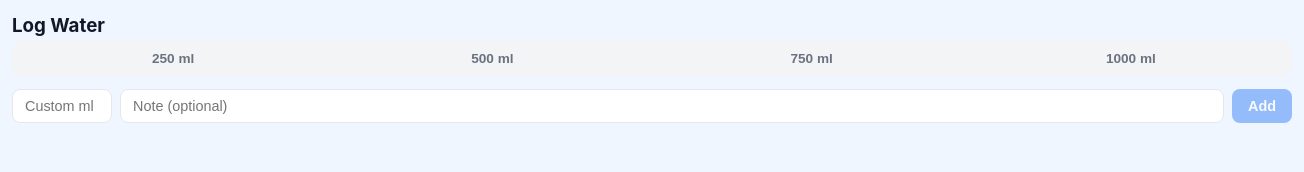
Test: AddWaterForm › strips non-numeric characters from input
This screenshot has width=1304, height=172.
Type "abc123xyz" into the field with placeholder "Custom ml" at coordinates (62, 106), box [12,89,112,123]
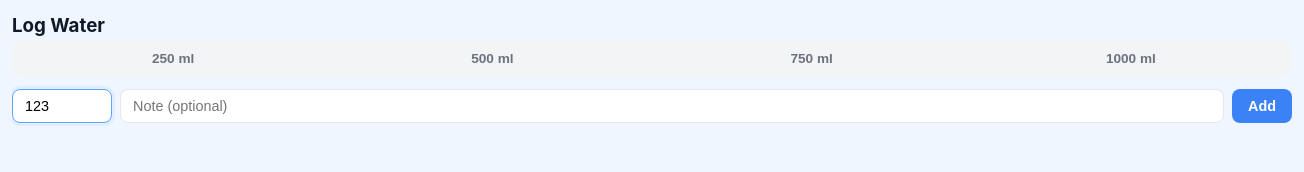
Expected: the field with placeholder "Custom ml" holds "123", [12,89,112,123]
